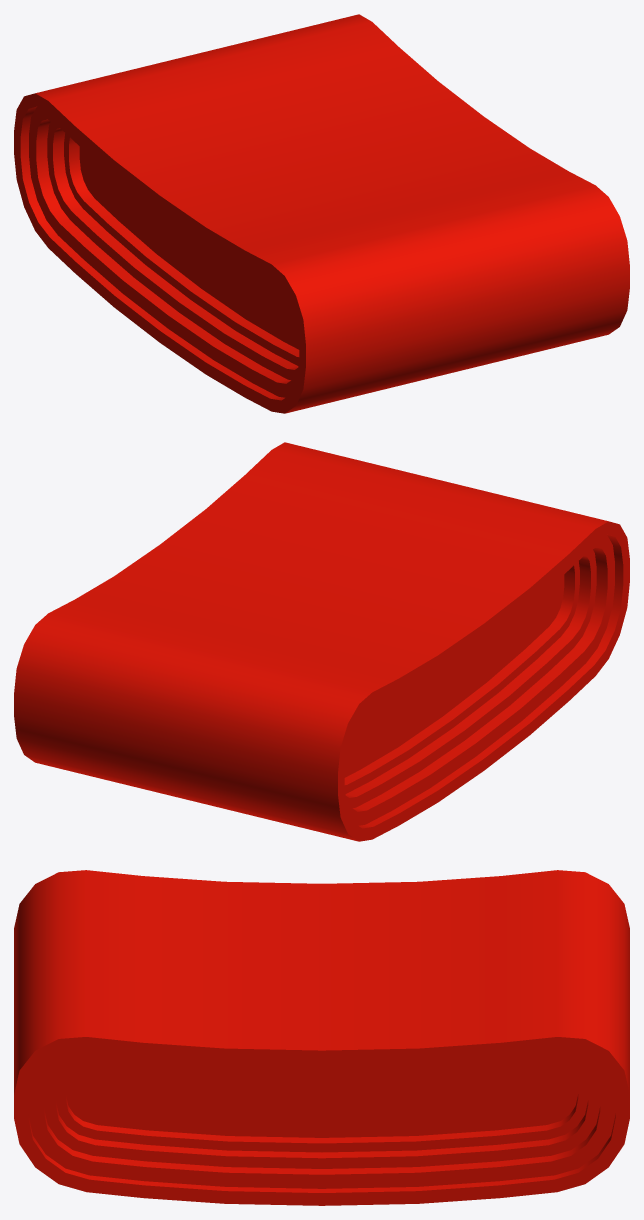
File: alexc_folded_fabric.fbx
3 renders of one model, top to bottom at view 1: azimuth 30°, elevation 25°; view 2: azimuth 150°, elevation 25°; view 3: azimuth 270°, elevation 25°, orthographic. The views are drawn at different scales.
Visible parts, largest first — view 1: fold; view 2: fold; view 3: fold.
Boxes of the visible parts, left/top/right/bottom form: fold: left=14, top=14, right=629, bottom=413; fold: left=14, top=442, right=629, bottom=841; fold: left=14, top=870, right=629, bottom=1205.
Size of the model in its own units: 200 by 312 by 94.53.
